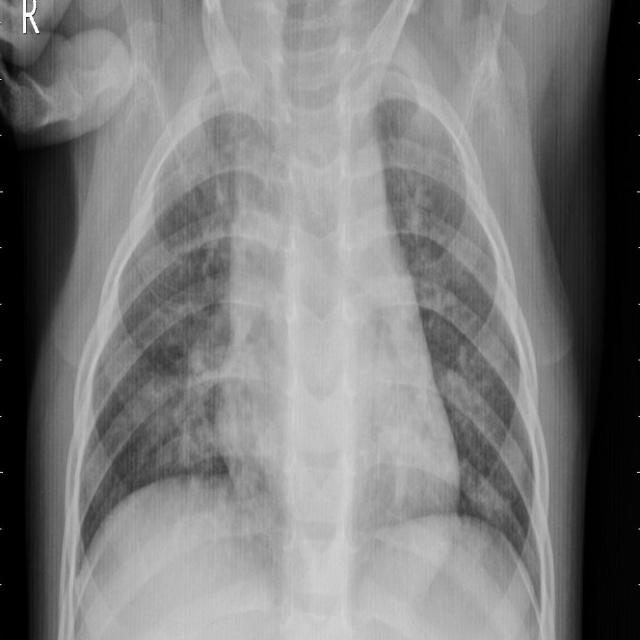low-pneumonia: (172, 292, 230, 467)
